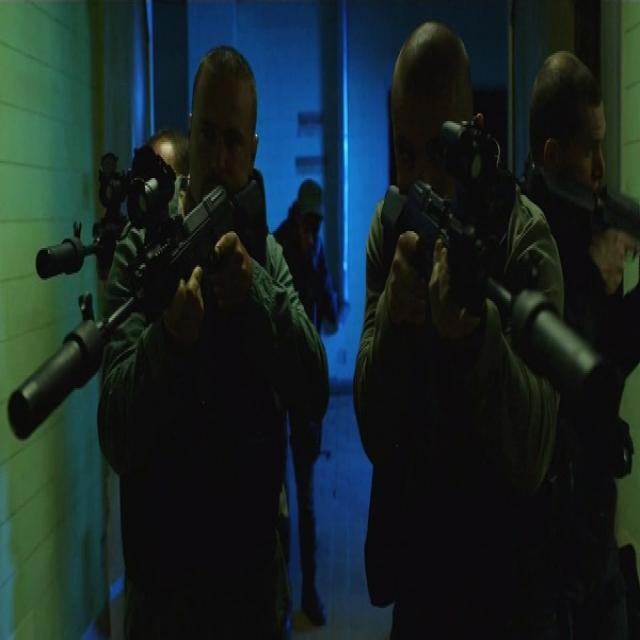rifle: (7, 158, 270, 458), (379, 115, 612, 426)
